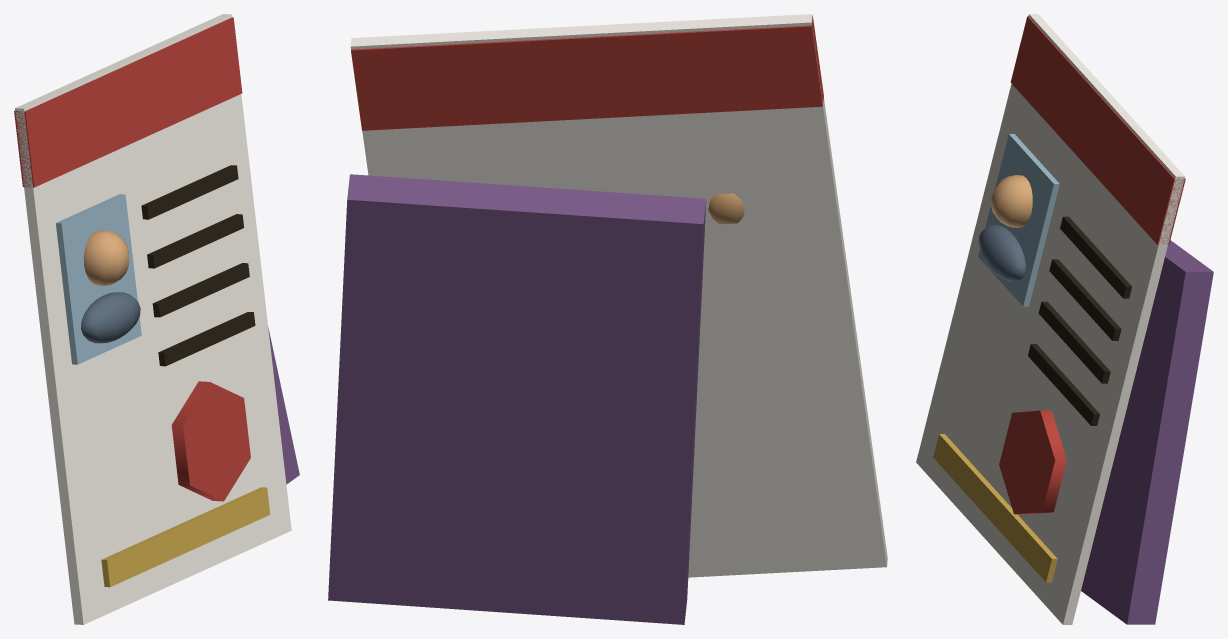
The model's file is admission_ticket.glb.
3 views of the same model, side by side, from view 1: azimuth 30°, elevation 25°; view 2: azimuth 150°, elevation 25°; view 3: azimuth 270°, elevation 25° (orthographic). The views are drawn at different scales.
Size of the model in its own units: 0.6815 by 0.9929 by 0.5575.
